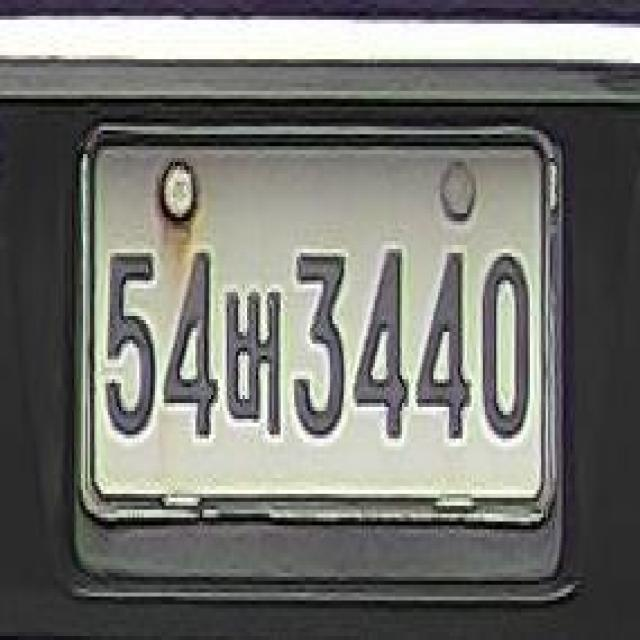0: (478, 239, 534, 440)
3: (294, 240, 348, 438)
4: (414, 238, 476, 443), (351, 238, 412, 437), (164, 236, 222, 437)
5: (102, 240, 158, 440)
beo: (225, 238, 292, 439)
license_plate: (70, 106, 566, 528)
